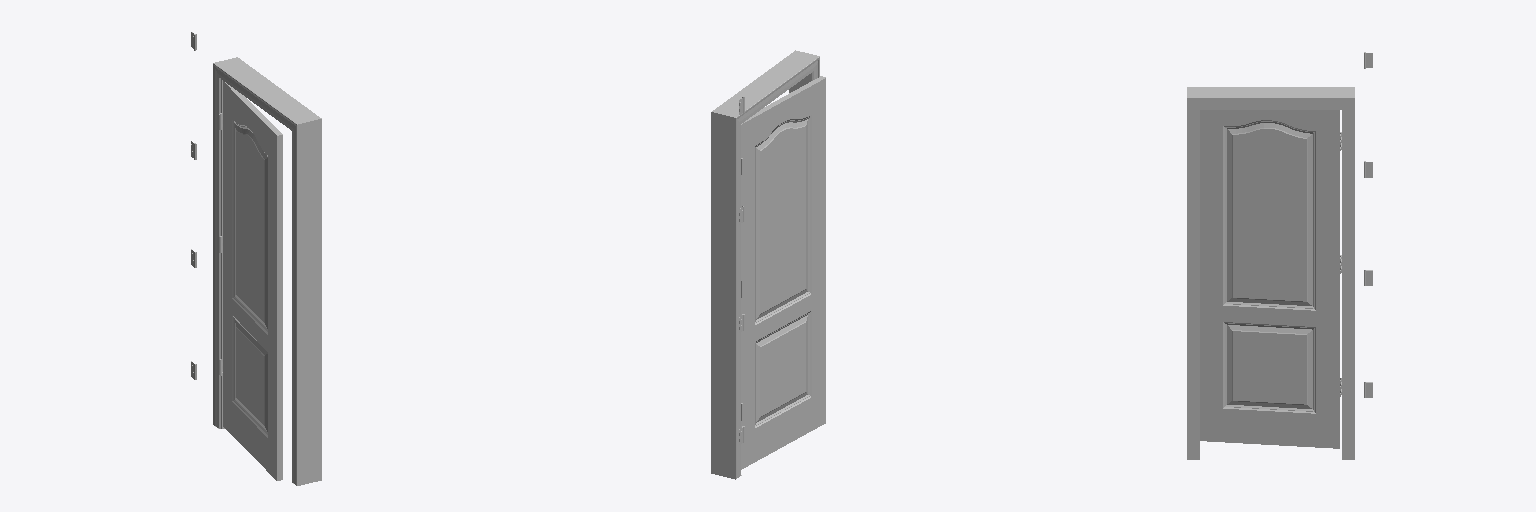
File: WhiteWoodObjects.obj
3 renders of one model, left to right at view 1: azimuth 30°, elevation 25°; view 2: azimuth 150°, elevation 25°; view 3: azimuth 270°, elevation 25°, orthographic.
Visible parts, largest first — view 1: WhiteWoodObjects; view 2: WhiteWoodObjects; view 3: WhiteWoodObjects.
Boxes of the visible parts, x1=… form: WhiteWoodObjects: x1=191, y1=32, x2=321, y2=485; WhiteWoodObjects: x1=711, y1=50, x2=825, y2=479; WhiteWoodObjects: x1=1187, y1=52, x2=1372, y2=459.
Size of the model in its own units: 0.931 by 9.09 by 3.95.